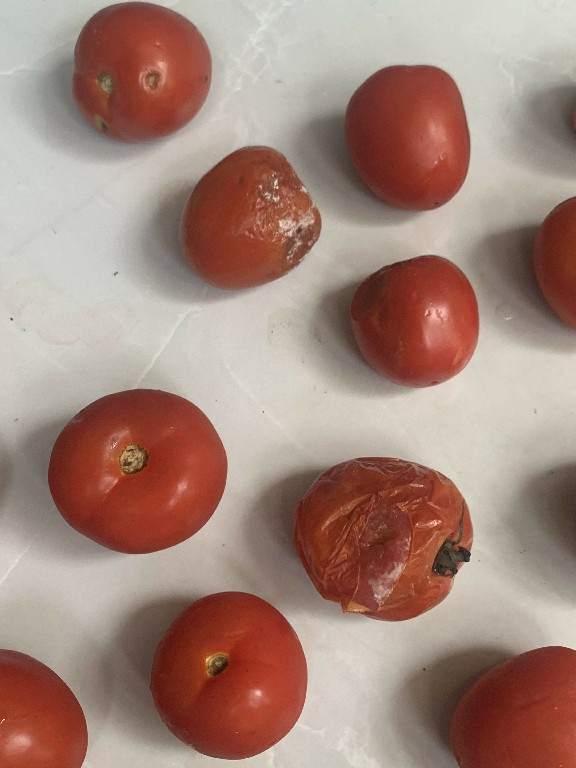NG: (289, 452, 475, 626), (183, 137, 323, 293), (62, 1, 212, 143), (343, 252, 484, 386)
OK: (40, 385, 234, 557), (150, 585, 310, 763), (337, 56, 477, 218), (443, 641, 576, 767), (0, 637, 92, 768)
